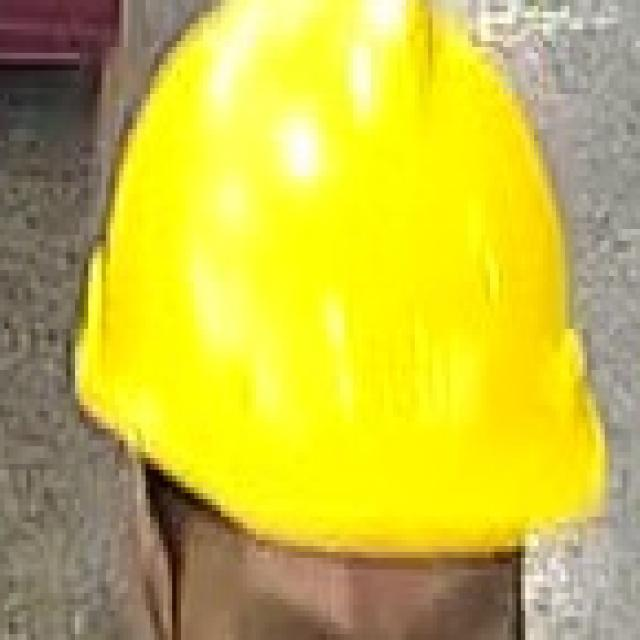yellow helmet: (66, 1, 626, 559)
